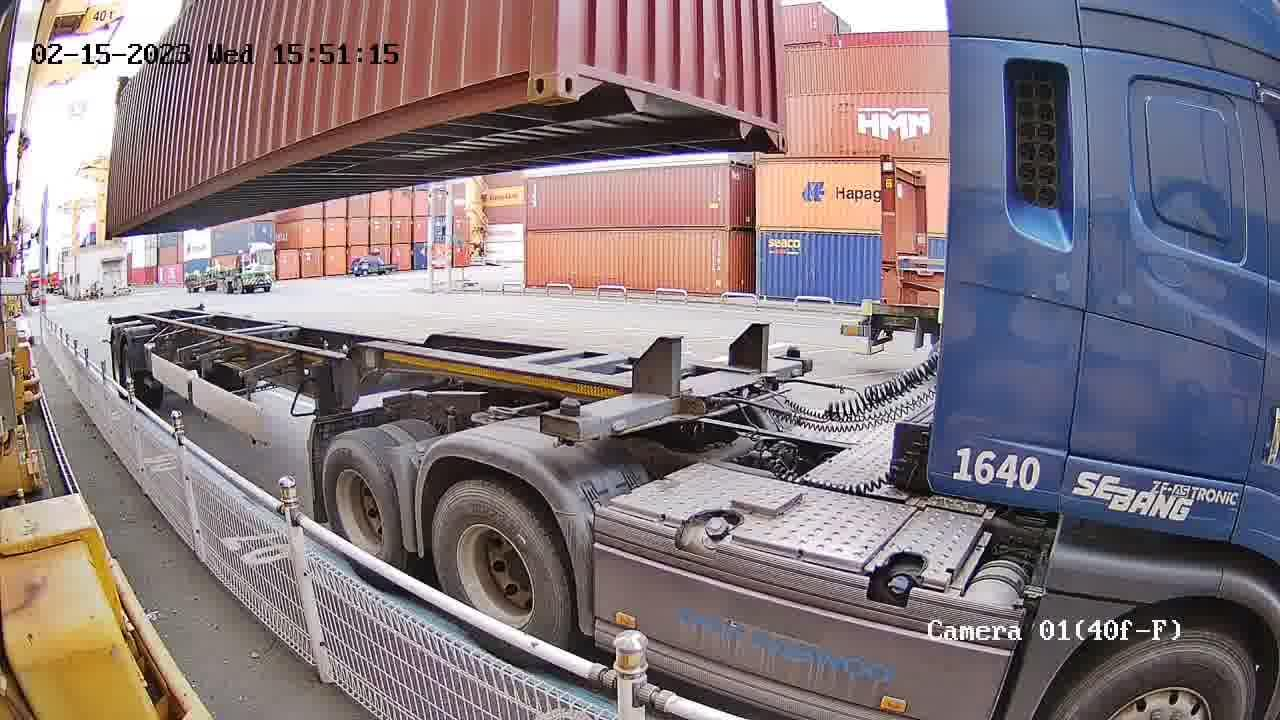Chassis: (542, 354, 813, 439)
Cone: (544, 397, 587, 437), (783, 341, 803, 368)
Hole_L: (556, 40, 607, 104)
Hole_R: (498, 40, 554, 109), (753, 100, 788, 154)
Tire: (434, 487, 566, 640), (1059, 638, 1257, 719), (322, 442, 401, 562)
